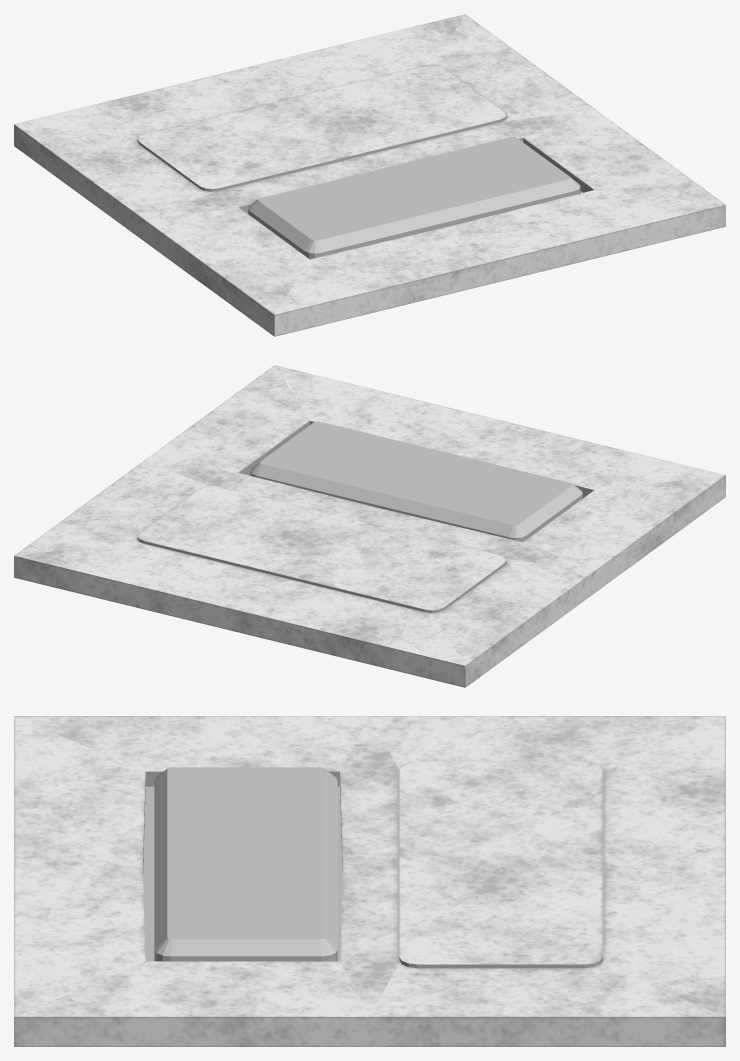
Rendered from Modular_Dungeon_Floor_w_pressureplate.fbx.
3 views of the same model, one above another, from view 1: azimuth 30°, elevation 25°; view 2: azimuth 150°, elevation 25°; view 3: azimuth 270°, elevation 25° (orthographic). The views are drawn at different scales.
Visible parts, largest first — view 1: Bodenplatte_ohnedeckel_lo, Druckplatte_Boden_lo; view 2: Bodenplatte_ohnedeckel_lo, Druckplatte_Boden_lo; view 3: Bodenplatte_ohnedeckel_lo, Druckplatte_Boden_lo.
Part boxes in pixels (x1,y1,x2,y2): Bodenplatte_ohnedeckel_lo: (14,14,725,336); Druckplatte_Boden_lo: (248,136,580,259); Bodenplatte_ohnedeckel_lo: (14,365,725,687); Druckplatte_Boden_lo: (250,421,582,541); Bodenplatte_ohnedeckel_lo: (14,716,725,1046); Druckplatte_Boden_lo: (154,767,337,961).
Size of the model in its own units: 280 by 18.41 by 280.
